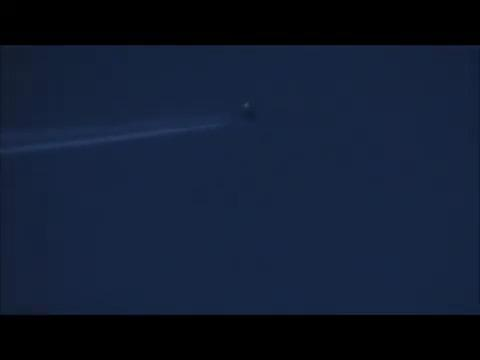Plane: (87, 94, 285, 134)
